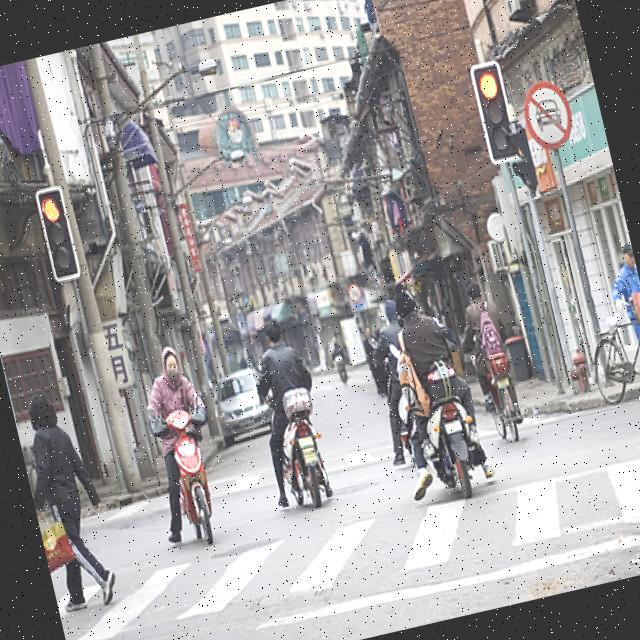fire_hydrant: (564, 346, 592, 394)
